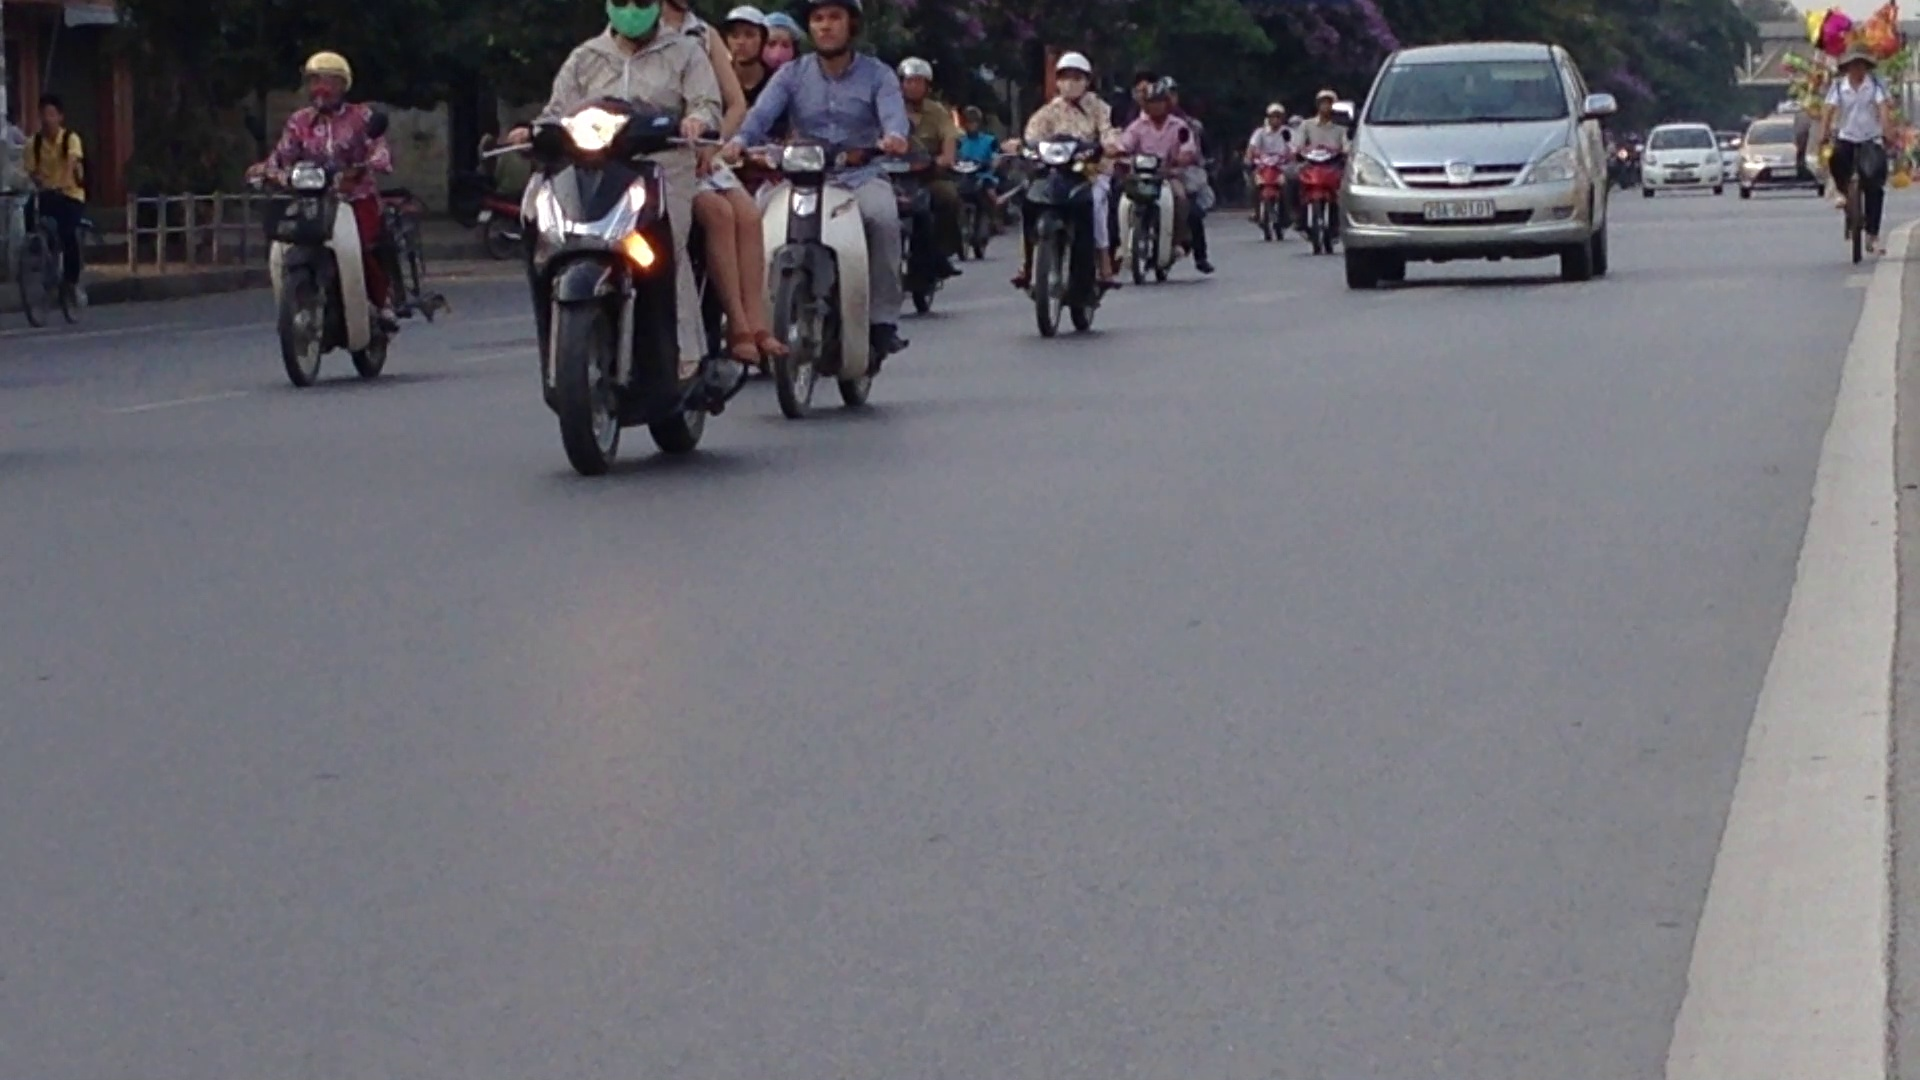person: (1419, 196, 1501, 223)
